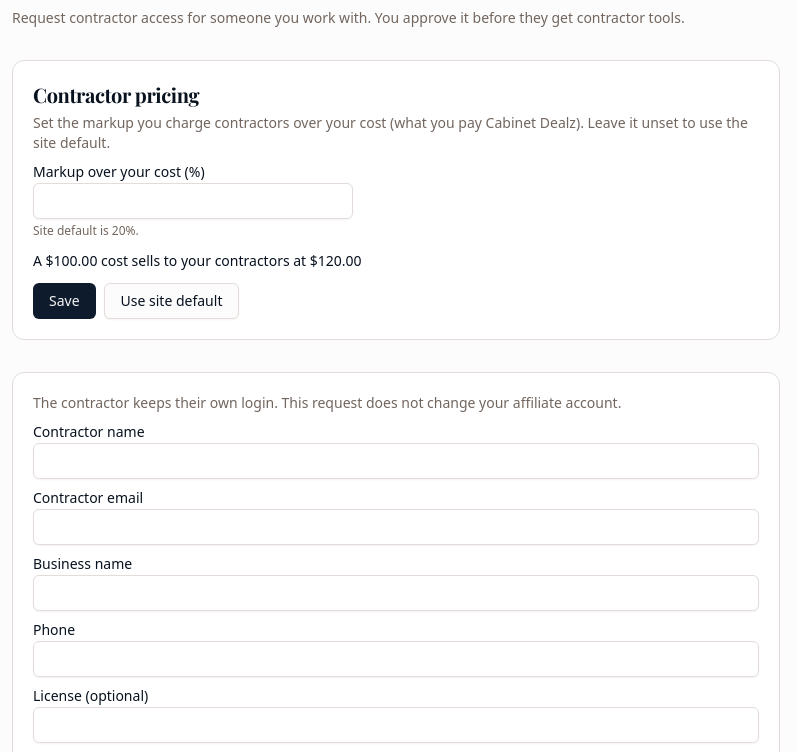
Scenario: Add a contractor › shows the server error for an account that is already an approved contractor
Step 1. Type " Sam Builder " into the field labelled "Contractor name" → (396, 461), box [33, 443, 759, 479]
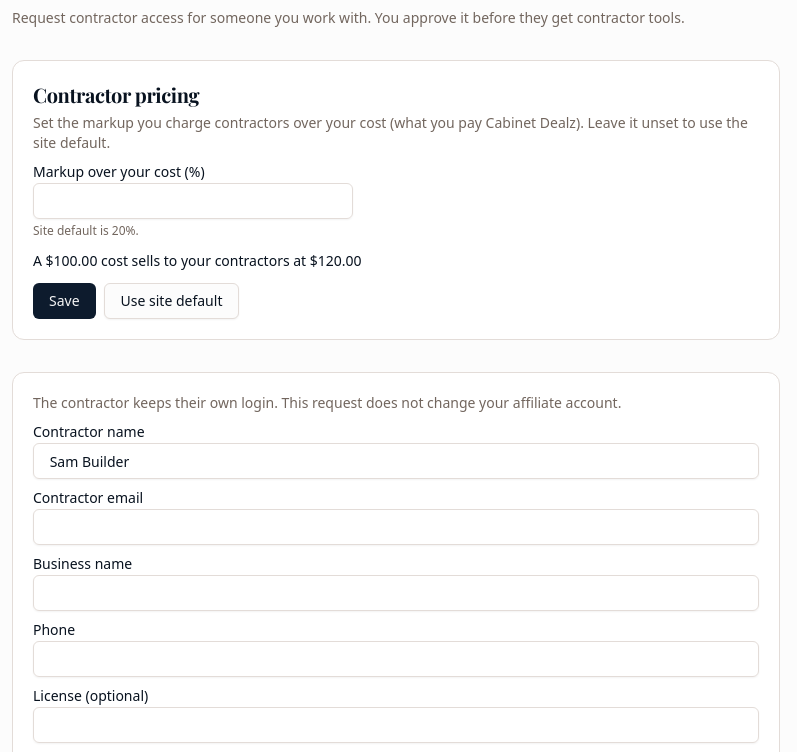
Step 2. Type "sam@build.example" into the field labelled "Contractor email" → (396, 527), box [33, 509, 759, 545]
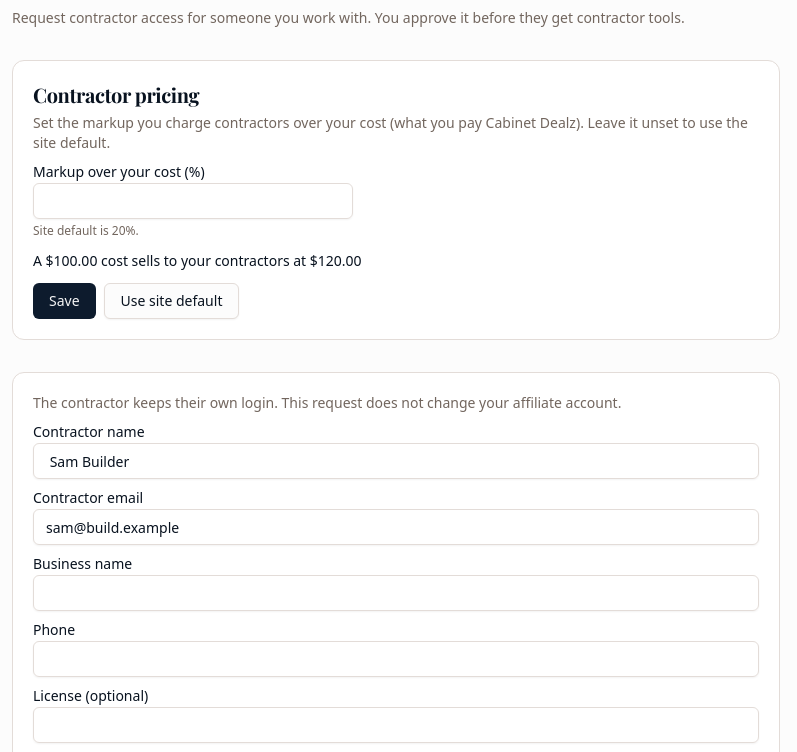
Step 3. Type " Build Co " into the field labelled "Business name" → (396, 593), box [33, 575, 759, 611]
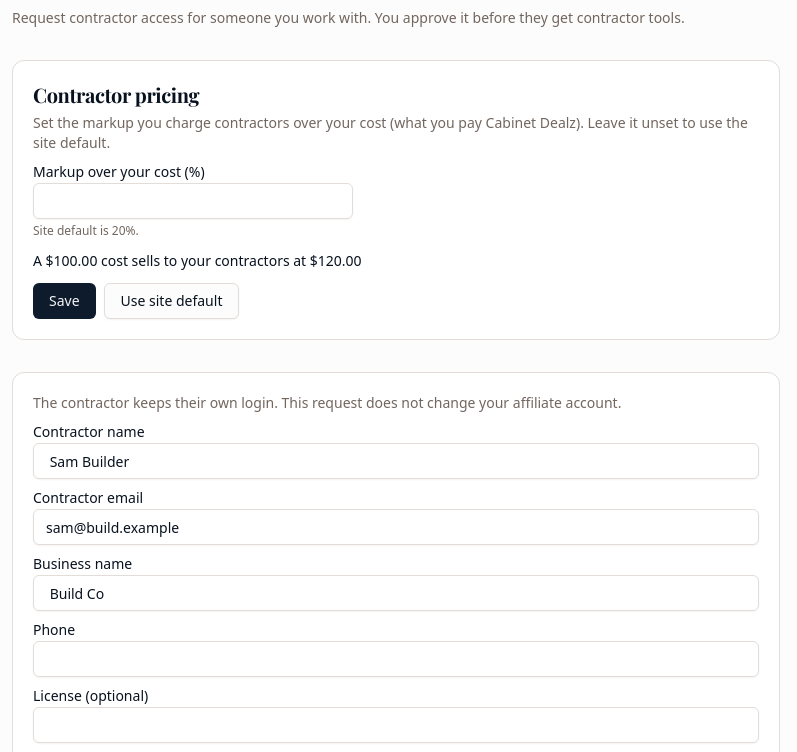
Step 4. Type "555-0199" into the field labelled "Phone" → (396, 659), box [33, 641, 759, 677]
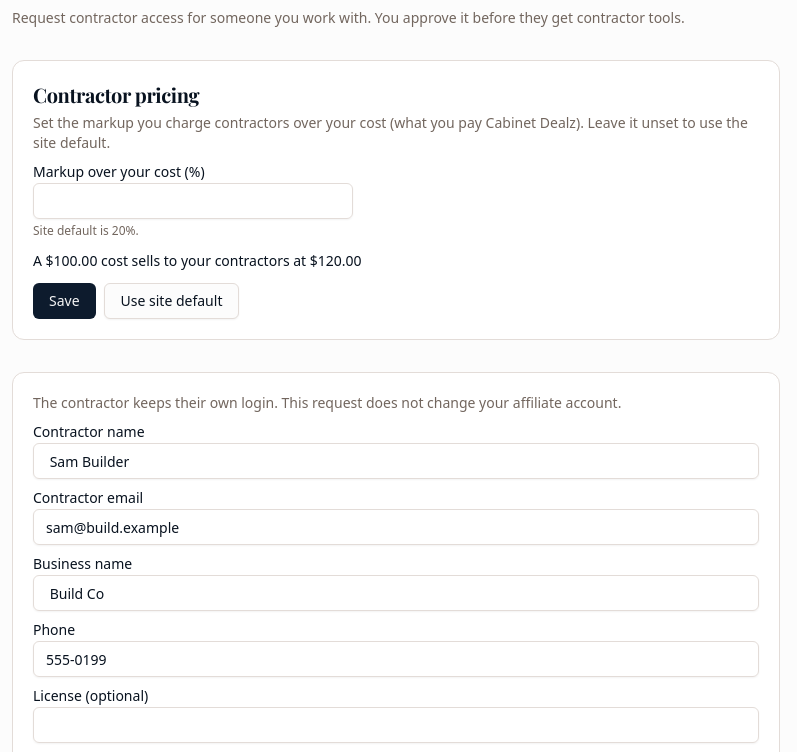
Step 5. Type "LIC-9" into the field labelled "License (optional)" → (396, 725), box [33, 707, 759, 743]
(page scrolled)
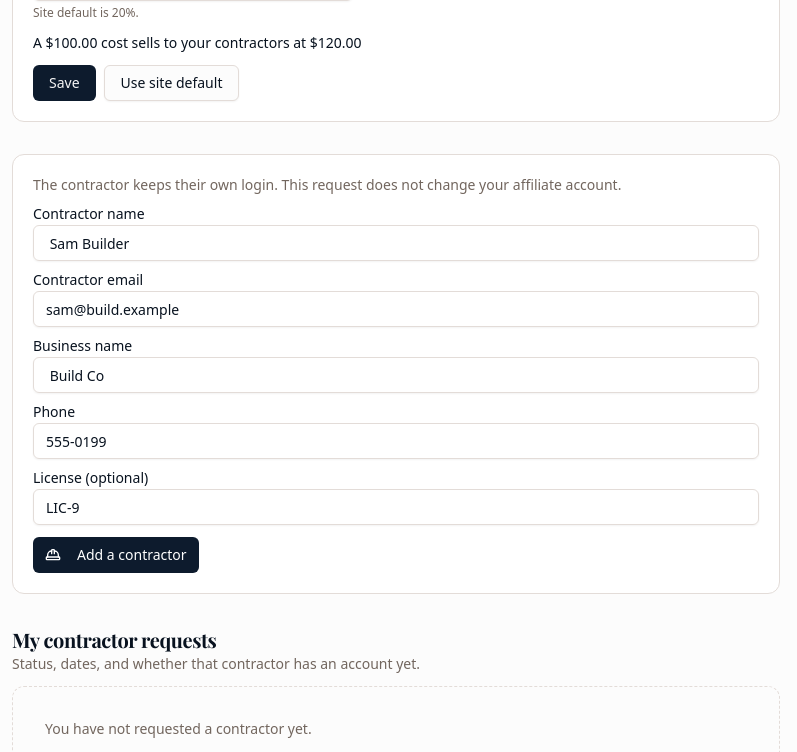
Step 6. Click the button "Add a contractor" → (116, 555), box [33, 537, 199, 573]
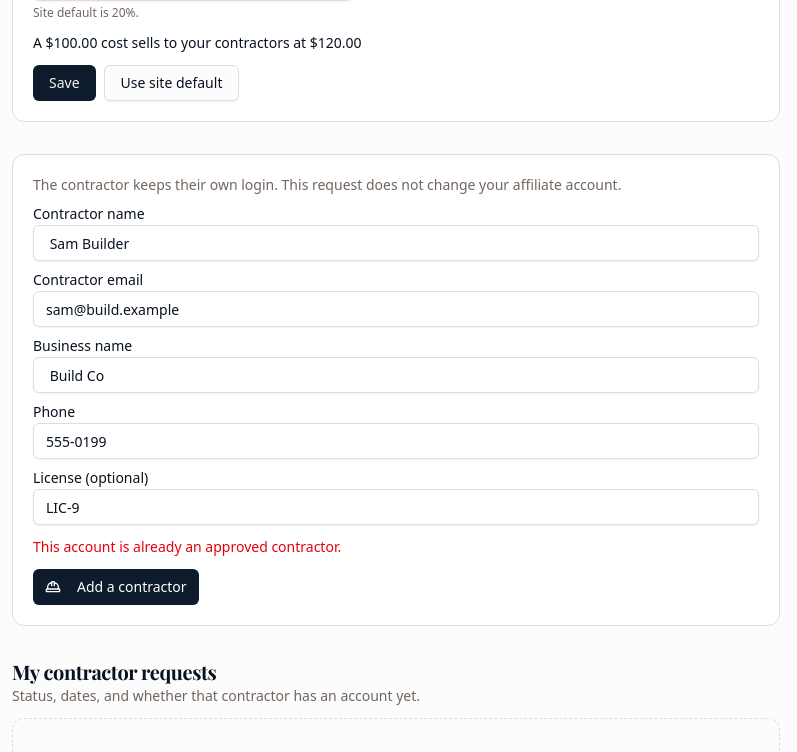
Now the message reads "This account is already an approved contractor.", box [33, 537, 341, 556]
